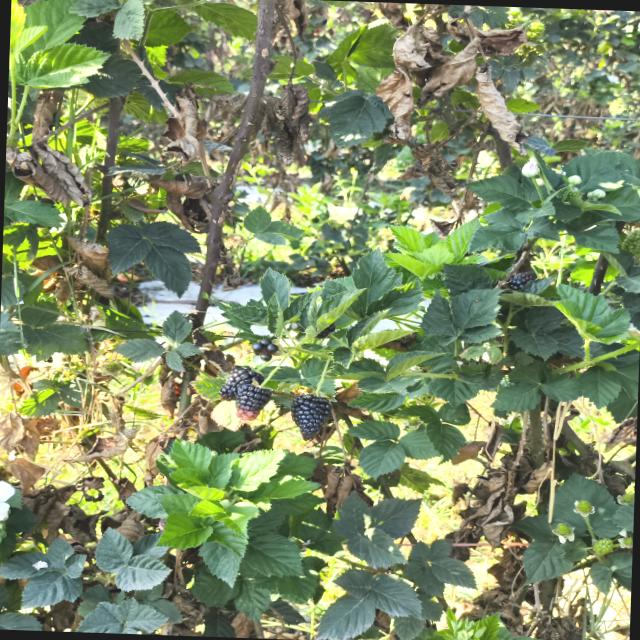boton: (587, 189, 605, 200), (567, 175, 581, 185)
flor: (0, 481, 14, 502)
maduro: (291, 394, 331, 440), (219, 365, 264, 399), (508, 272, 536, 291)
marron: (235, 383, 271, 417)
